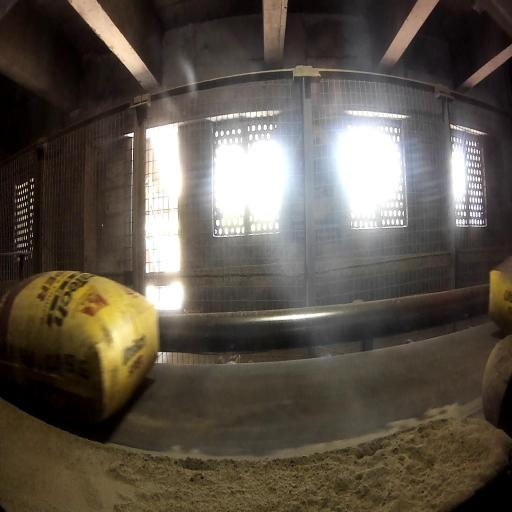c-belt-sack-count: (0, 271, 159, 423)
